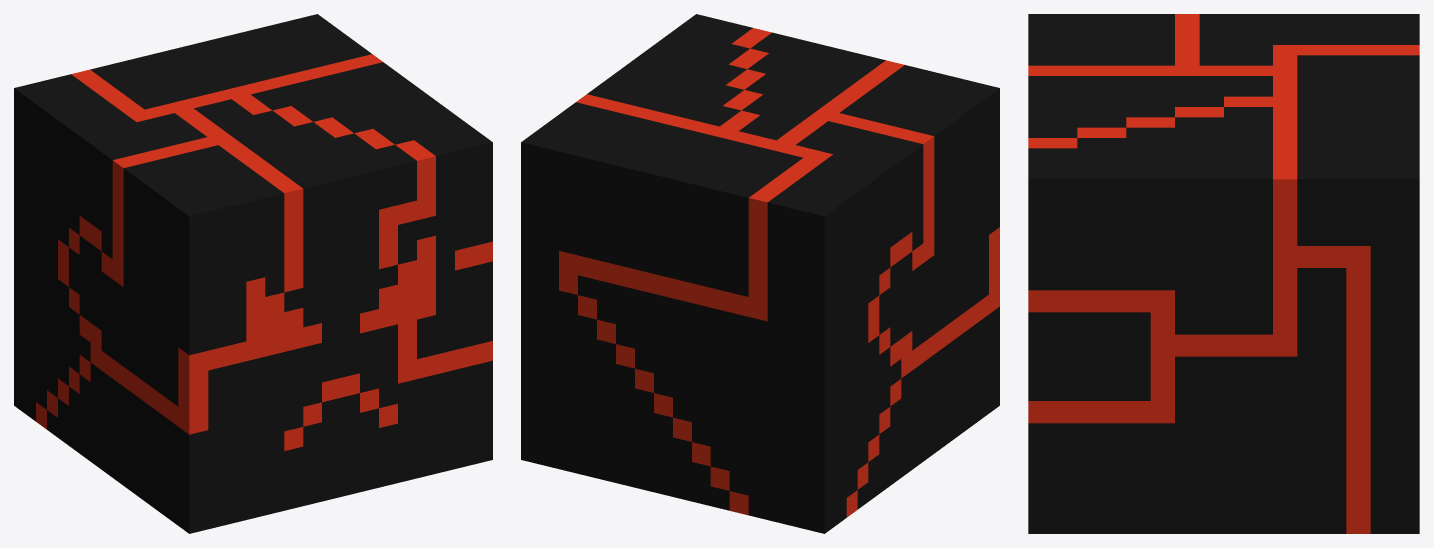
The model's file is virus_mopping_chase.fbx.
3 views of the same model, side by side, from view 1: azimuth 30°, elevation 25°; view 2: azimuth 150°, elevation 25°; view 3: azimuth 270°, elevation 25° (orthographic). The views are drawn at different scales.
Parts seen in each view (by area): view 1: virus_mopping_chase; view 2: virus_mopping_chase; view 3: virus_mopping_chase.
Boxes of the visible parts, bbox=[...] form: virus_mopping_chase: bbox=[14, 14, 492, 533]; virus_mopping_chase: bbox=[521, 14, 999, 533]; virus_mopping_chase: bbox=[1028, 14, 1419, 533].
Size of the model in its own units: 1.6 by 1.6 by 1.6.
1 material, 1 textured.
